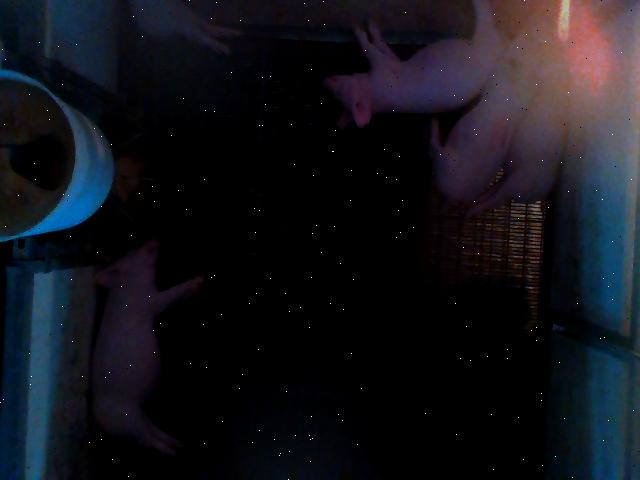pig-4: (429, 38, 538, 204)
